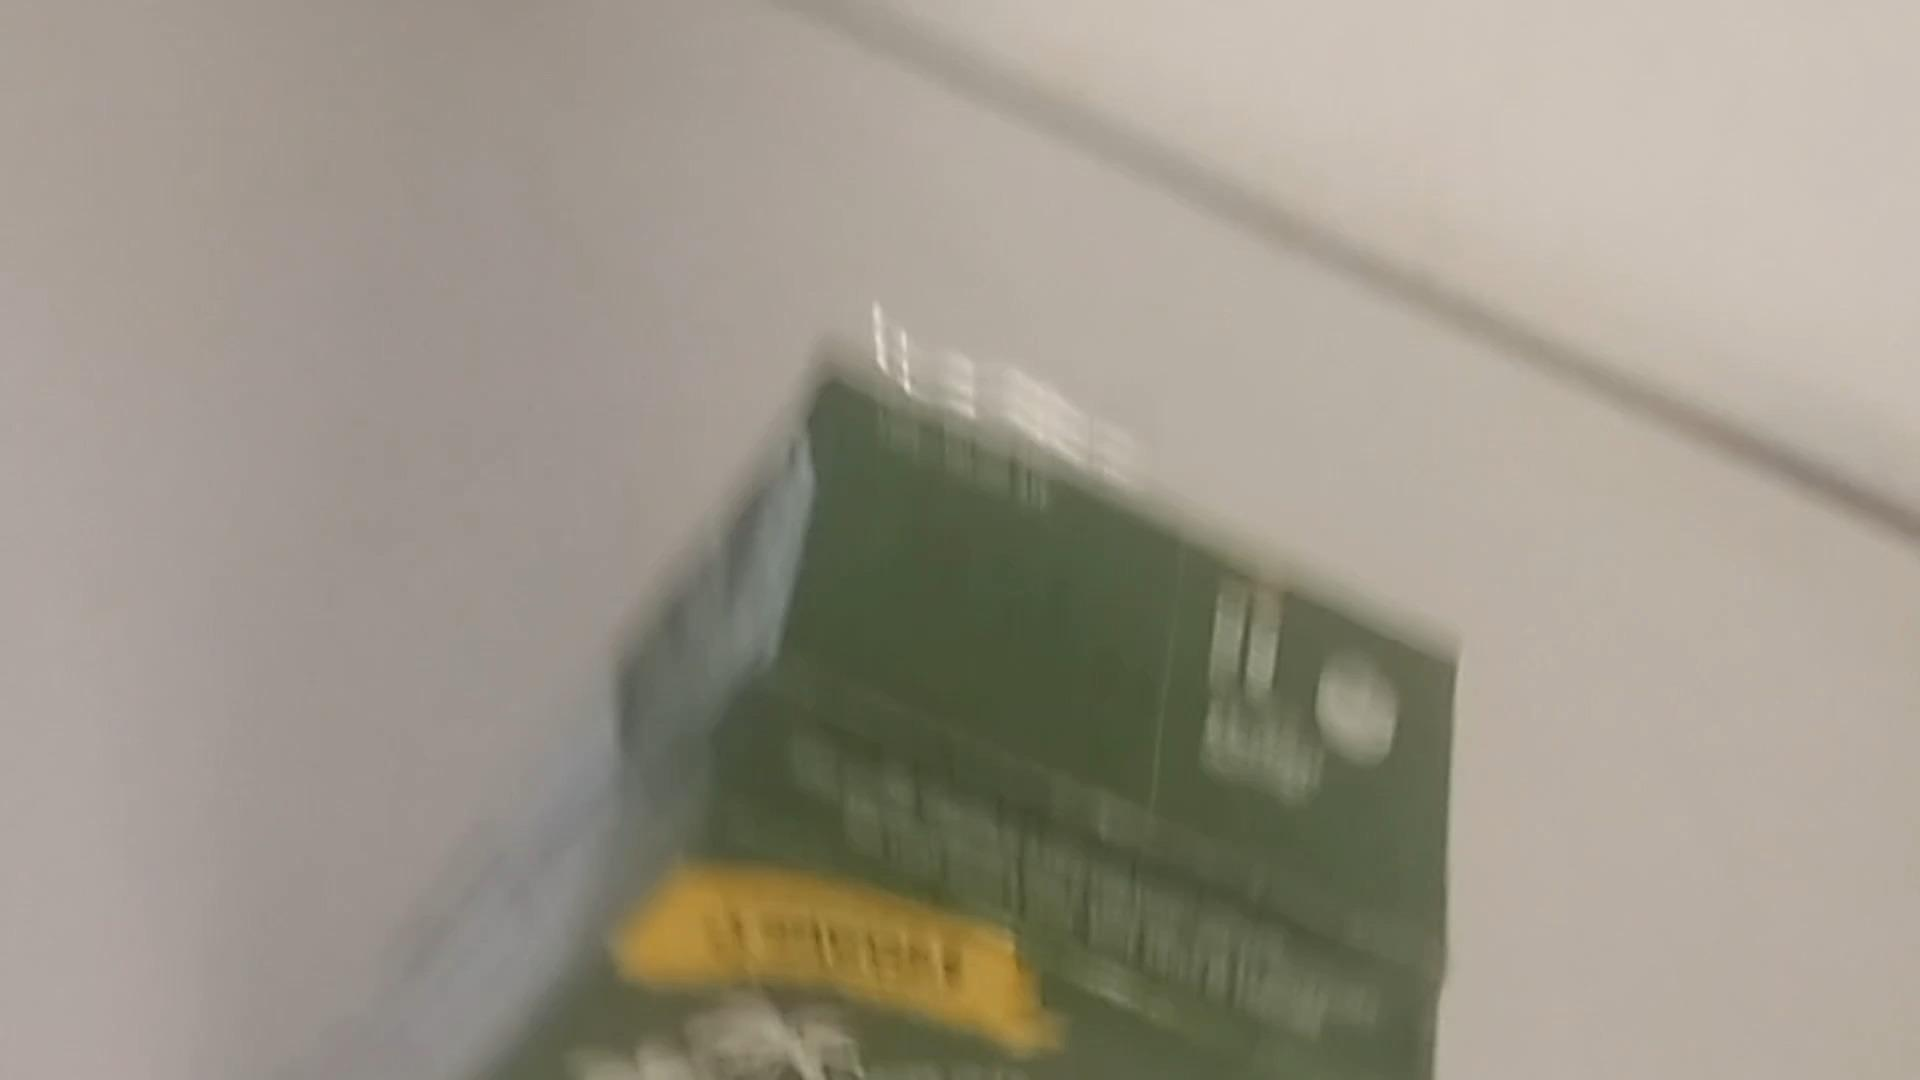coco: (355, 380, 1485, 1080)
